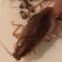cockroach: (12, 6, 53, 60)
